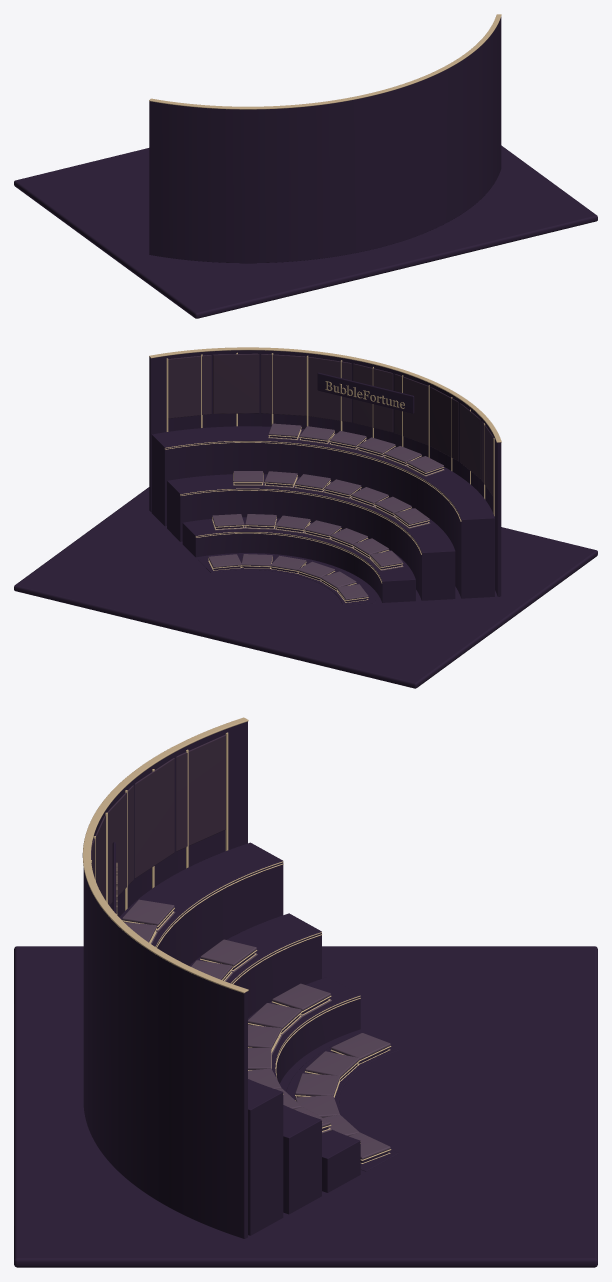
File: BF_DisplayStage_26_v007.glb
The picture shows the model from 3 angles, top to bottom: view 1: azimuth 30°, elevation 25°; view 2: azimuth 150°, elevation 25°; view 3: azimuth 270°, elevation 25°; orthographic projection. The views are drawn at different scales.
Parts seen in each view (by area): view 1: Stage_Indigo, Stage_Champagne; view 2: Stage_Indigo, Wall_Inset, Stage_Porcelain, Stage_Champagne; view 3: Stage_Indigo, Wall_Inset, Stage_Porcelain, Stage_Champagne.
Boxes of the visible parts, x1,y1,x2,y2 form: Stage_Indigo: (14,17,597,318); Stage_Champagne: (149,14,501,109); Stage_Indigo: (14,350,597,688); Wall_Inset: (168,353,493,496); Stage_Porcelain: (208,423,444,600); Stage_Champagne: (149,347,501,602); Stage_Indigo: (14,721,597,1267); Wall_Inset: (91,735,225,905); Stage_Porcelain: (122,899,390,1159); Stage_Champagne: (82,717,391,1163).
Size of the model in its own units: 28 by 10.68 by 22.
